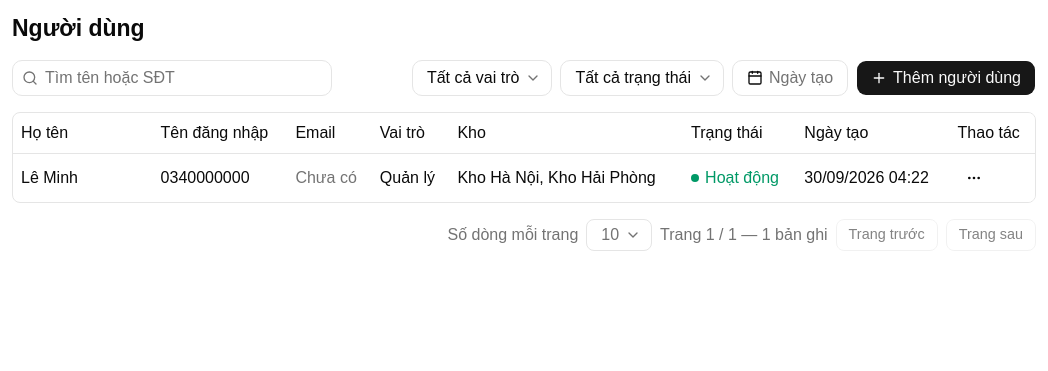
UsersPage — sheet chi tiết người dùng › bấm nút ⋯ trên dòng chỉ mở menu, không mở sheet
The width and height of the screenshot is (1048, 371).
Click the button named "Thao tác với Lê Minh": (974, 178) left=958, top=162, right=990, bottom=194
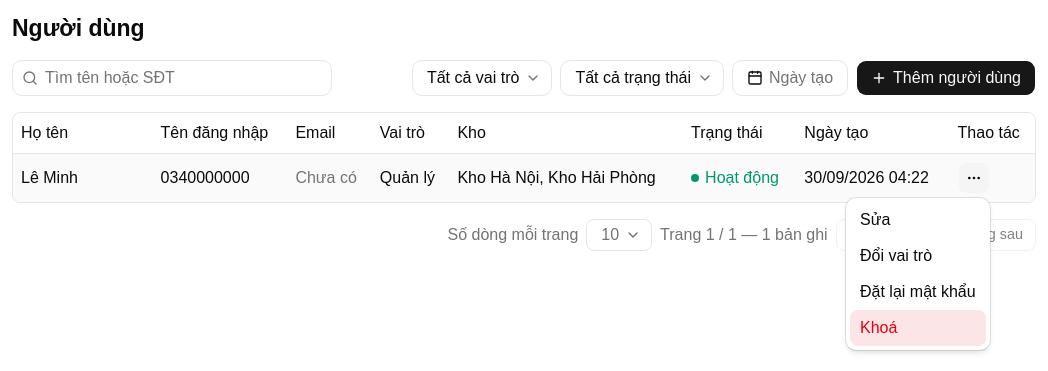
Now the menu is shown, box left=846, top=198, right=990, bottom=350
